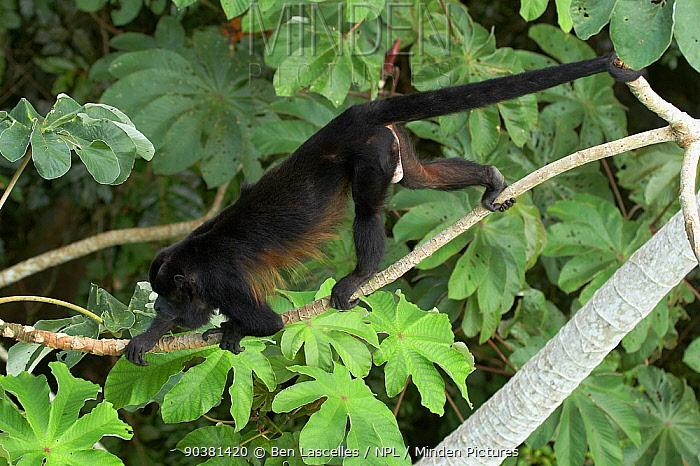monkey: (122, 74, 561, 367)
